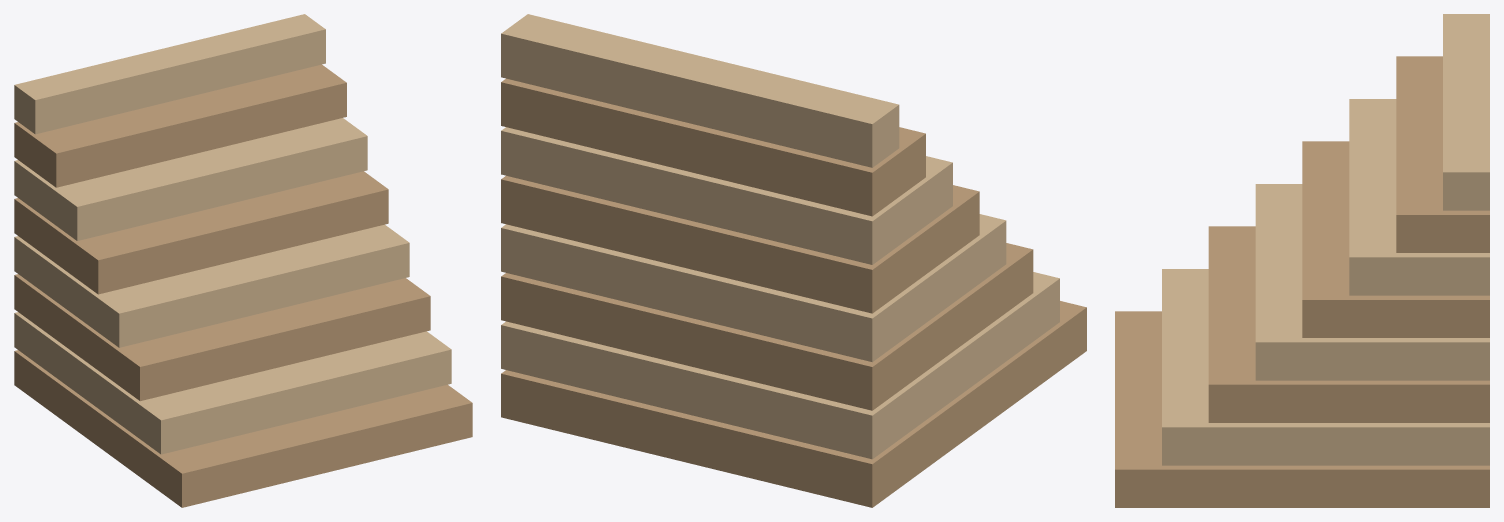
Rendered from stairs.glb.
3 views of the same model, side by side, from view 1: azimuth 30°, elevation 25°; view 2: azimuth 150°, elevation 25°; view 3: azimuth 270°, elevation 25° (orthographic). The views are drawn at different scales.
Visible parts, largest first — view 1: stairs; view 2: stairs; view 3: stairs.
Boxes of the visible parts, x1,y1,x2,y2 form: stairs: [14, 14, 472, 507]; stairs: [501, 14, 1086, 507]; stairs: [1115, 14, 1489, 507].
Size of the model in its own units: 3 by 2.96 by 3.
